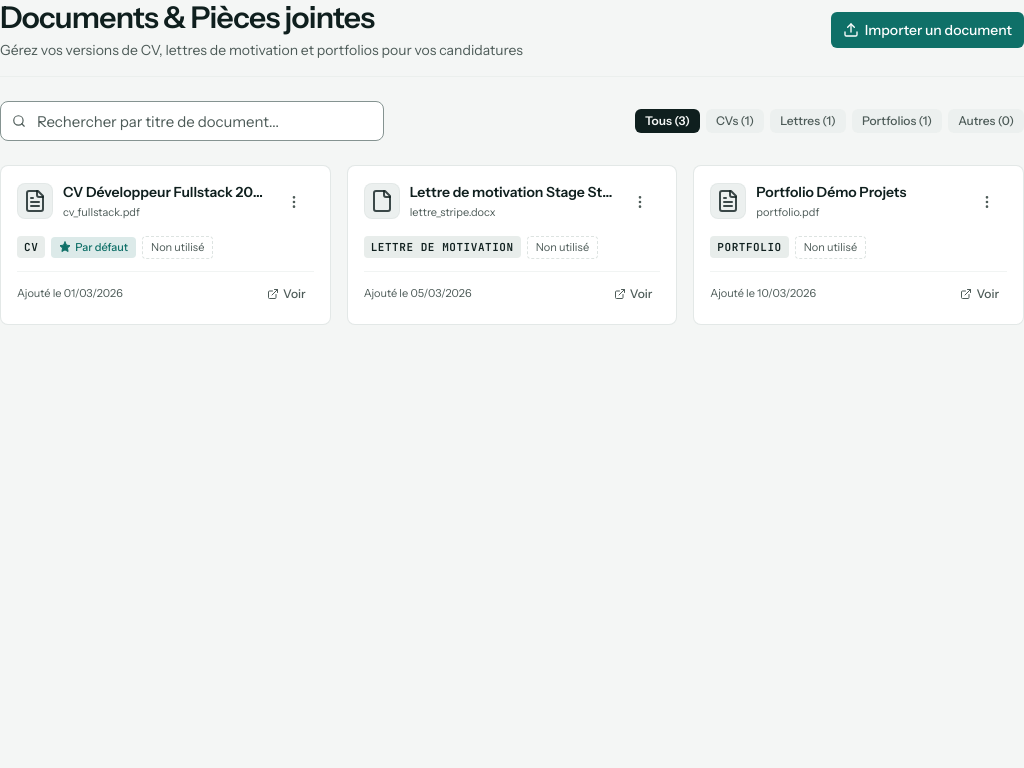
Test: Page: DocumentsPage › opens and closes the upload dialog
Click the button "Importer un document" at coordinates (927, 30), box [831,12,1023,48]
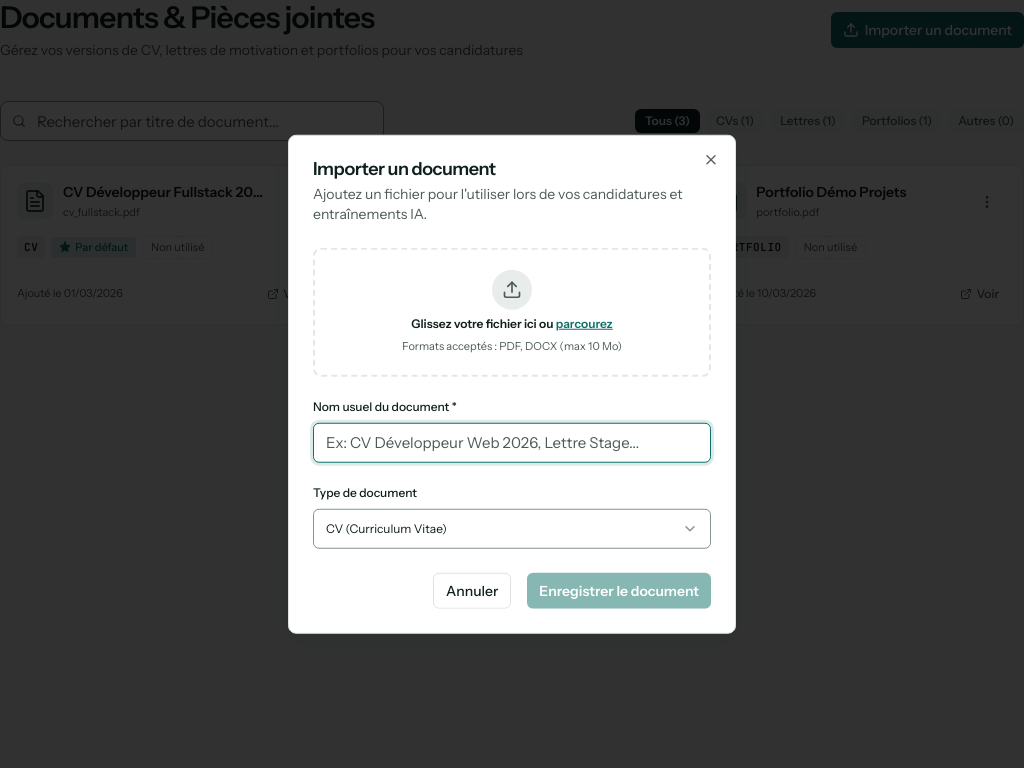
Now the text "Glissez votre fichier ici ou" is shown, box [411,316,556,331]
Now the field labelled "Nom usuel du document *" is shown, box [313,422,711,462]
Click the button "Annuler" at coordinates (472, 590), box [433,572,511,608]
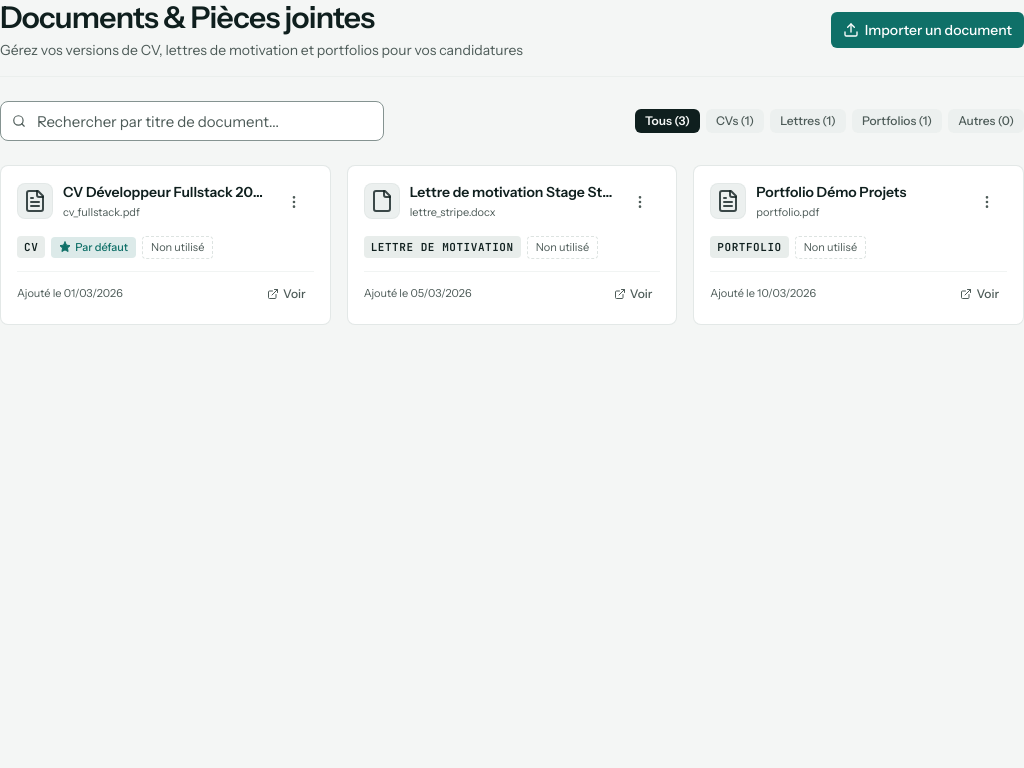
Now the text "Glissez votre fichier ici ou" is gone
